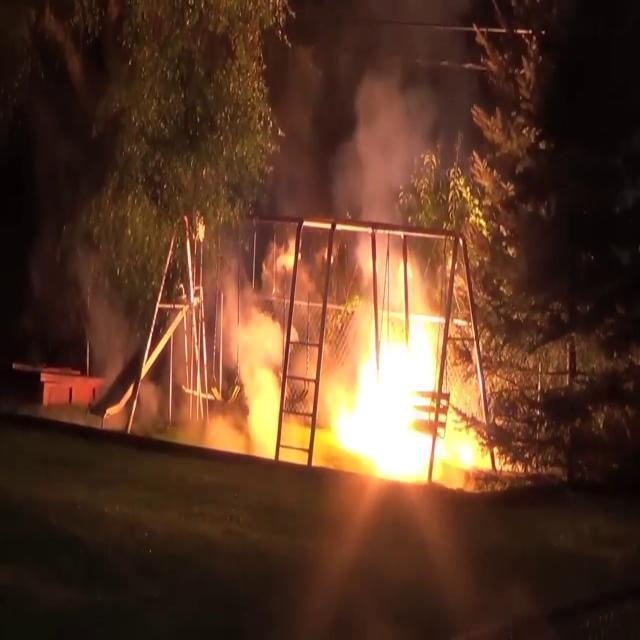Fire: (326, 256, 488, 488)
Smoke: (264, 2, 456, 314)
